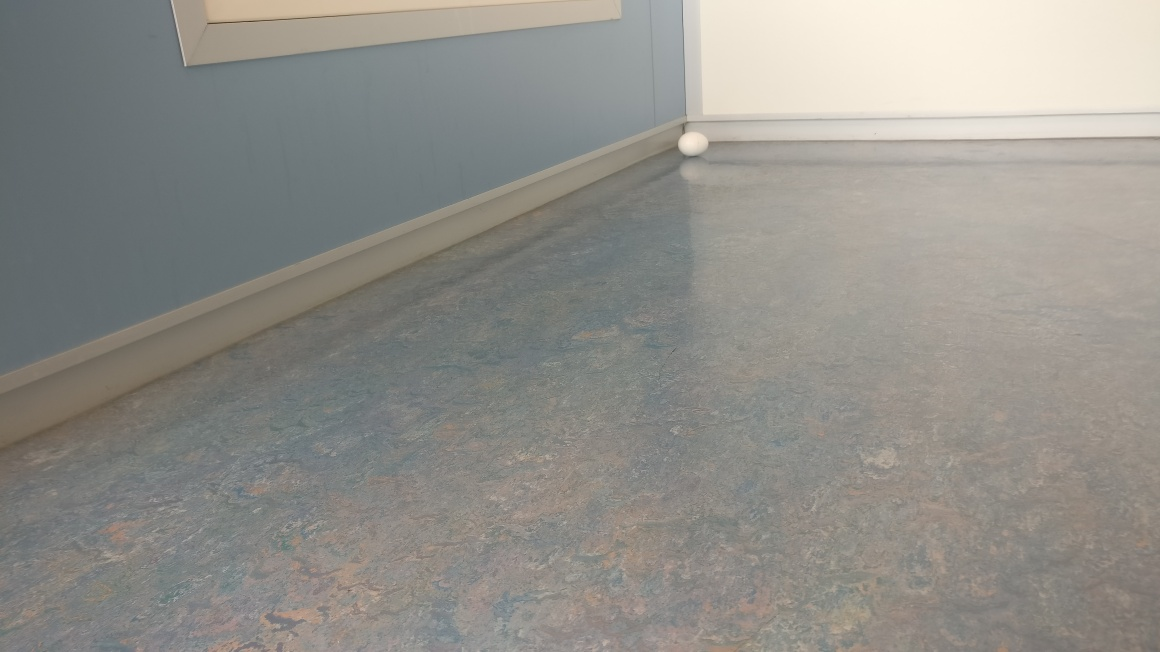egg: (677, 130, 709, 157)
